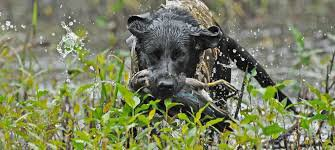dog: (127, 3, 252, 136)
